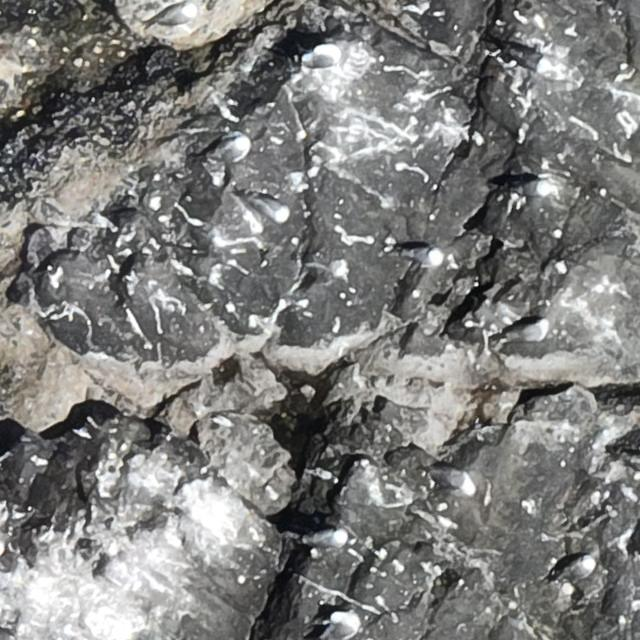umineko: (434, 464, 476, 498), (506, 45, 552, 75), (147, 4, 198, 30), (207, 136, 249, 166), (319, 610, 359, 640), (308, 526, 349, 551), (302, 44, 342, 65), (566, 557, 595, 580), (259, 198, 289, 220), (518, 180, 552, 199), (411, 248, 442, 266), (518, 321, 548, 339)
